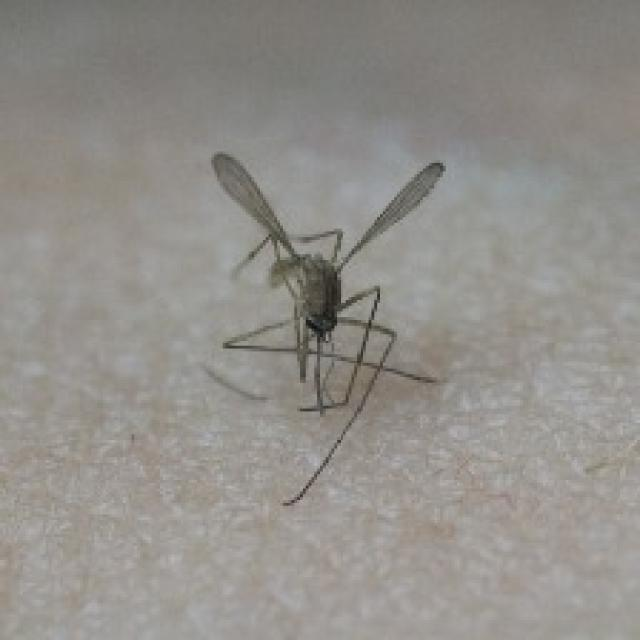culex: (200, 148, 446, 506)
